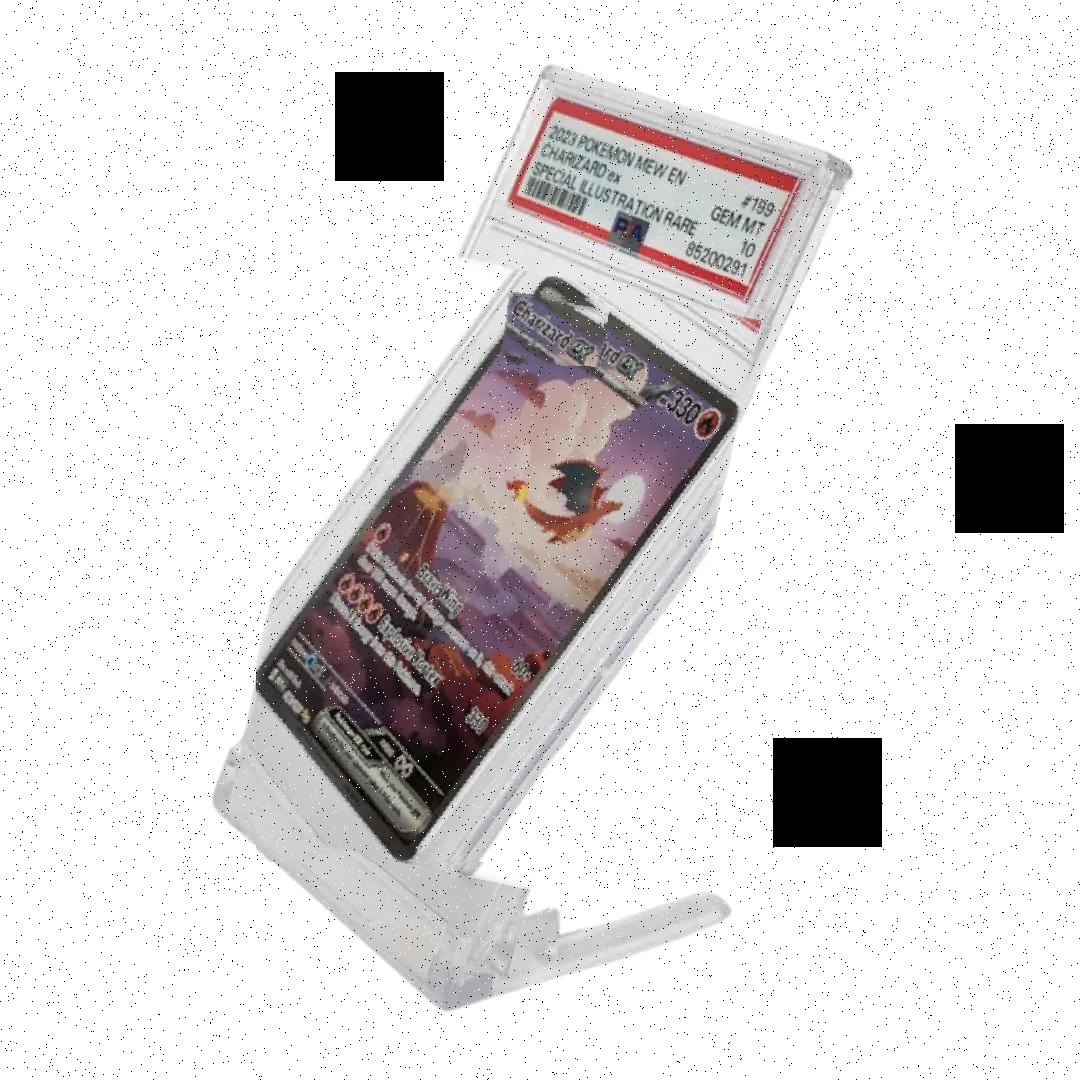card: (256, 276, 741, 862)
name: (507, 295, 602, 366)
